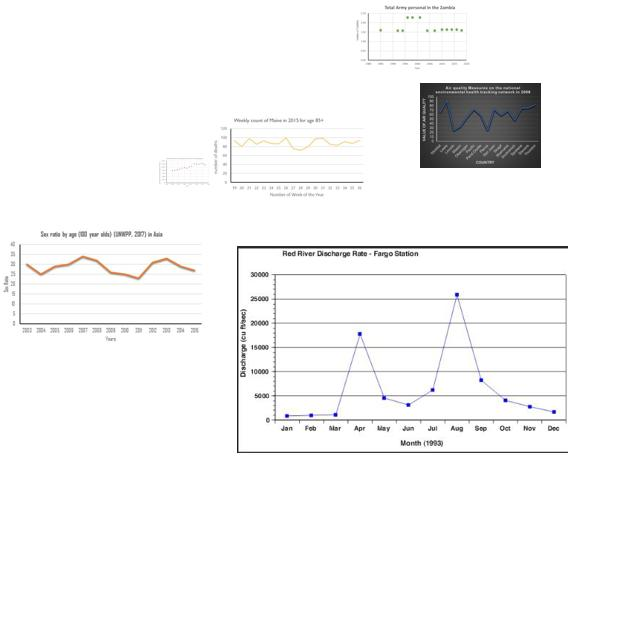Graph: (237, 246, 568, 453), (0, 229, 205, 345), (213, 117, 365, 198), (420, 83, 541, 168), (355, 4, 471, 71), (158, 157, 211, 188)
